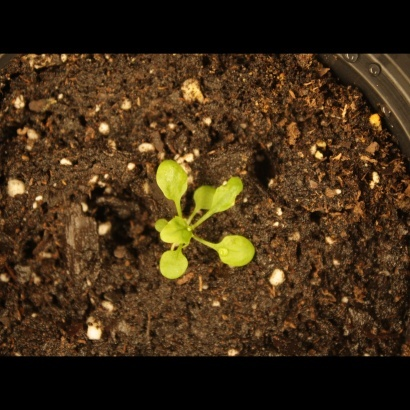leaf: (210, 227, 263, 273), (152, 157, 190, 206), (211, 174, 245, 220), (156, 247, 193, 285), (159, 219, 197, 246), (193, 181, 216, 215), (145, 211, 168, 234)
